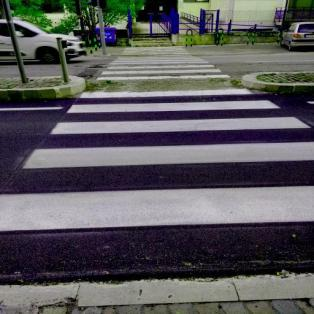Paso de Cebra: (42, 97, 313, 140)
